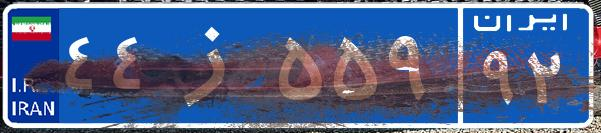2: (525, 38, 570, 115)
4: (57, 26, 110, 107), (110, 28, 158, 105)
5: (273, 28, 330, 110), (330, 28, 385, 110)
9: (385, 28, 445, 110), (475, 38, 525, 113)
ز: (158, 15, 273, 115)
